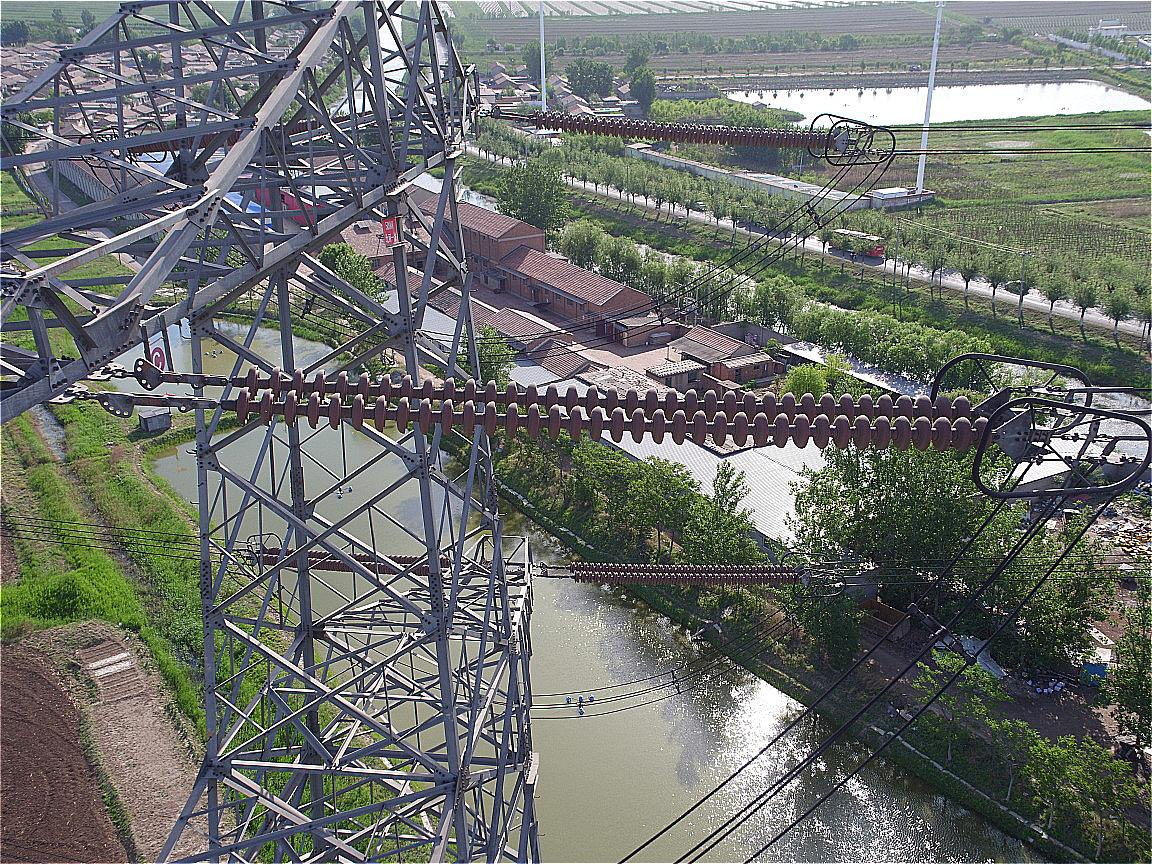insultor1: (236, 363, 973, 461)
insultor2: (534, 109, 835, 152), (573, 557, 801, 590)
